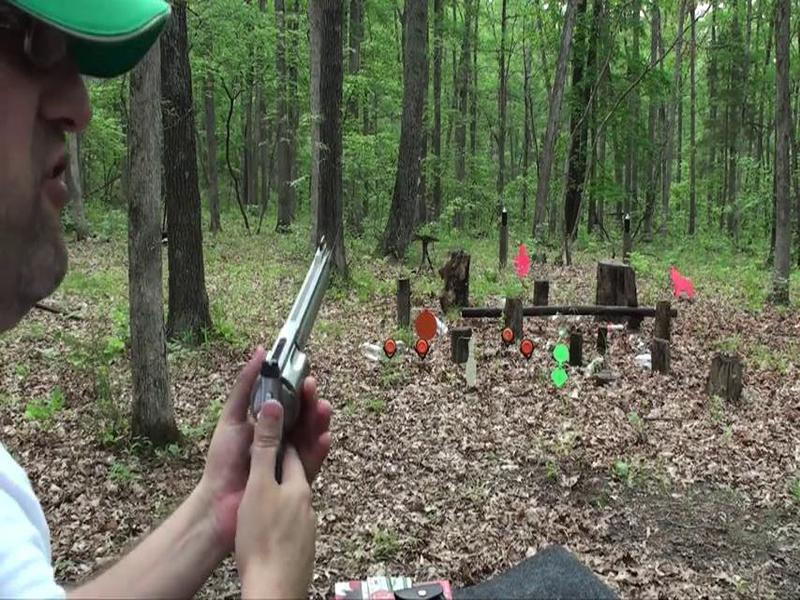Revolver: (217, 212, 367, 472)
